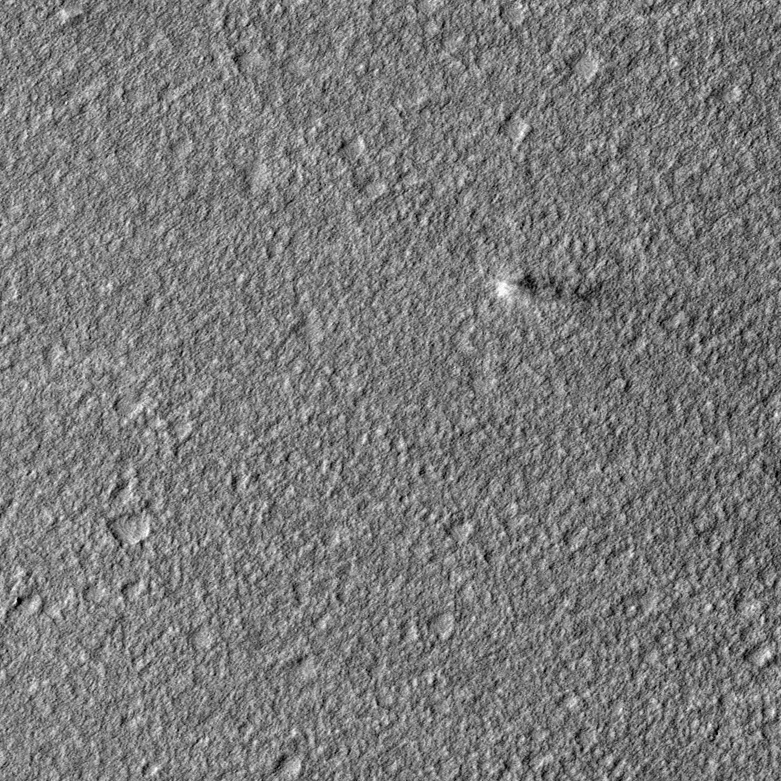dust_devil: (494, 271, 606, 303)
